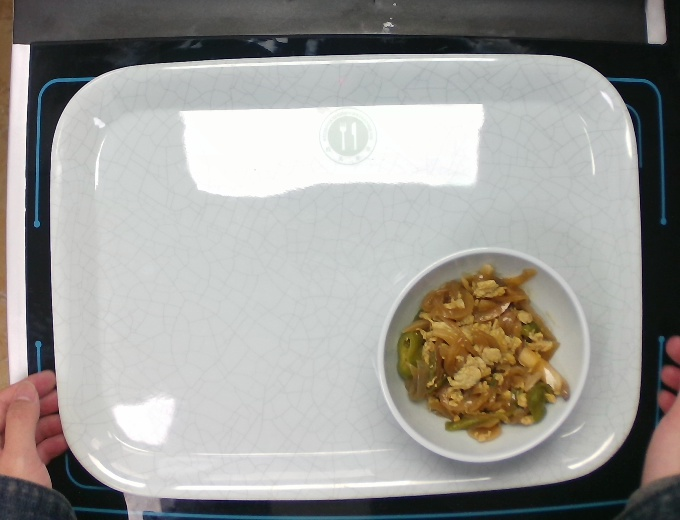JYsf-Fan_Wan: (374, 244, 592, 465)
